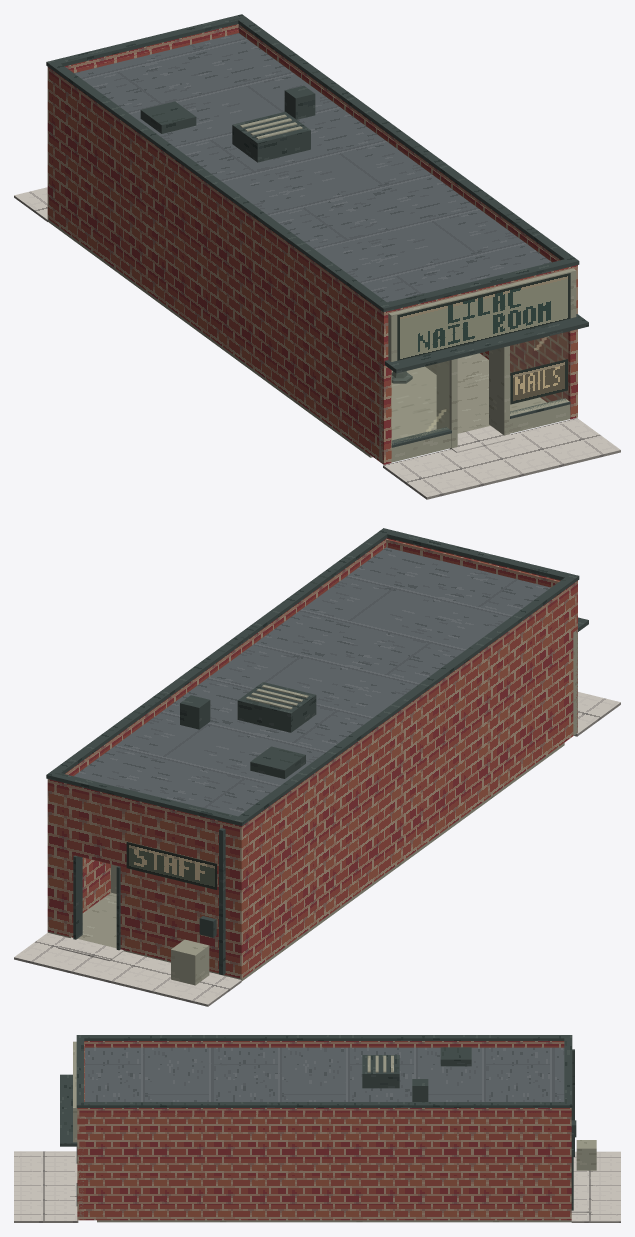
File: salon-2010-far.glb
3 renders of one model, top to bottom at view 1: azimuth 30°, elevation 25°; view 2: azimuth 150°, elevation 25°; view 3: azimuth 270°, elevation 25°, orthographic. The views are drawn at different scales.
Parts seen in each view (by area): view 1: shell, lot, sign_name, fixed_interior, sign_shop_window; view 2: shell, lot, fixed_interior, sign_staff; view 3: shell, lot, fixed_interior.
Part boxes in pixels (<box>): shell: <box>46,14,588,464</box>; lot: <box>14,187,620,499</box>; sign_name: <box>397,273,570,360</box>; fixed_interior: <box>47,219,546,457</box>; sign_shop_window: <box>510,359,567,404</box>; shell: <box>46,528,588,978</box>; lot: <box>14,692,620,1006</box>; fixed_interior: <box>47,743,564,981</box>; sign_staff: <box>126,842,216,889</box>; shell: <box>60,1035,591,1220</box>; lot: <box>14,1140,620,1222</box>; fixed_interior: <box>97,1220,571,1222</box>.
Size of what is drawn, in the model's own units: 6.05 by 4.99 by 22.1.
Materials: 9 (9 with a texture image).
